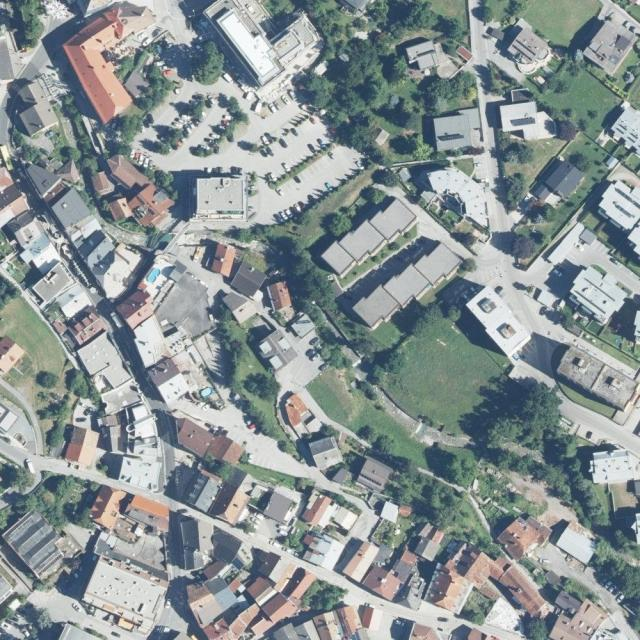building: (75, 325, 166, 471), (349, 237, 466, 334), (185, 568, 316, 640), (319, 196, 421, 280), (21, 151, 104, 249), (79, 554, 173, 637), (0, 164, 65, 282), (78, 558, 170, 639), (334, 521, 422, 605), (202, 527, 301, 597), (554, 343, 640, 413), (161, 316, 235, 395), (112, 285, 179, 369), (2, 507, 75, 583), (464, 283, 536, 360), (562, 259, 633, 329), (41, 281, 109, 353), (166, 414, 247, 473), (494, 17, 558, 81), (445, 534, 510, 596), (495, 562, 554, 624), (581, 16, 640, 76), (495, 507, 554, 566), (529, 153, 587, 213), (8, 79, 60, 139), (124, 180, 179, 235), (593, 173, 640, 234), (498, 98, 558, 145), (422, 564, 476, 616), (275, 391, 324, 443), (100, 150, 151, 199), (402, 38, 461, 80), (122, 492, 177, 536), (146, 356, 192, 406), (432, 108, 483, 152), (194, 176, 245, 219), (546, 221, 590, 269), (86, 482, 129, 531), (207, 480, 251, 527), (254, 328, 299, 373), (30, 262, 75, 306), (229, 261, 273, 304), (182, 469, 224, 514), (302, 530, 345, 573), (554, 525, 599, 566), (73, 228, 115, 270), (589, 448, 635, 486), (18, 98, 60, 139), (118, 455, 163, 492), (63, 425, 99, 471), (204, 431, 246, 470), (220, 285, 259, 325), (355, 456, 394, 495), (411, 521, 447, 563), (611, 106, 640, 154), (309, 435, 345, 473), (300, 490, 333, 528), (263, 491, 295, 525), (211, 242, 238, 277), (56, 158, 86, 187), (404, 39, 438, 64), (89, 168, 117, 198), (356, 603, 385, 631), (267, 281, 293, 312), (330, 504, 358, 532), (552, 590, 581, 617), (413, 535, 441, 562), (76, 0, 120, 17), (106, 195, 133, 222), (181, 519, 200, 551), (459, 107, 482, 131), (226, 467, 248, 489), (577, 227, 598, 248), (416, 52, 438, 72), (453, 44, 474, 64), (0, 574, 14, 603), (430, 528, 447, 545), (184, 548, 195, 569), (634, 310, 640, 344), (589, 534, 595, 556), (419, 530, 426, 537)
greenland: (439, 347, 640, 536), (296, 357, 485, 509), (186, 295, 304, 452), (374, 308, 509, 444), (78, 44, 183, 158), (379, 459, 499, 555), (389, 276, 494, 365), (264, 225, 346, 332), (287, 158, 382, 249), (532, 55, 624, 144), (460, 374, 561, 450), (12, 464, 102, 537), (33, 366, 102, 449), (570, 295, 640, 372), (488, 129, 565, 194), (590, 541, 640, 632), (57, 89, 108, 178), (531, 178, 591, 239), (5, 127, 82, 174), (326, 306, 386, 365), (369, 334, 427, 392), (562, 131, 614, 182), (299, 575, 348, 620), (189, 38, 231, 89), (235, 460, 299, 492), (319, 201, 367, 242), (1, 457, 34, 493), (231, 226, 288, 246), (505, 172, 527, 210), (502, 142, 533, 163), (1, 275, 18, 309), (512, 235, 535, 259)
metalled_road: (68, 0, 375, 276), (464, 225, 640, 402), (462, 0, 515, 266), (0, 439, 168, 518), (150, 508, 224, 640), (293, 387, 372, 457), (274, 331, 326, 393), (38, 13, 93, 62), (522, 332, 558, 387), (25, 0, 75, 39), (17, 41, 57, 88)
unmetalled_road: (500, 463, 579, 539), (527, 537, 589, 590), (416, 466, 470, 497), (465, 490, 493, 535), (465, 492, 494, 535)
